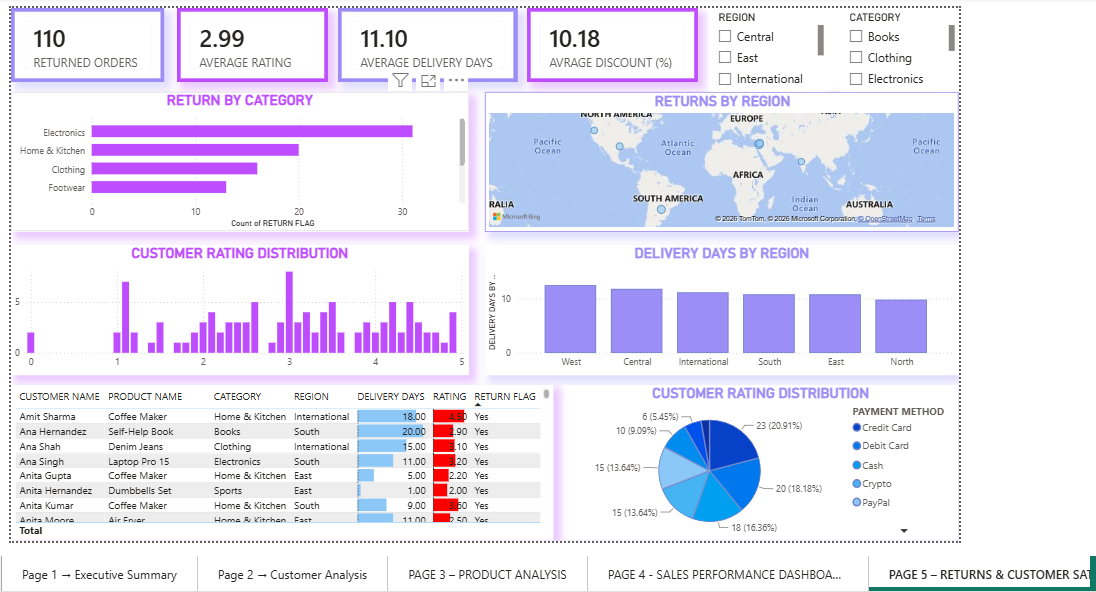

The page's visual inventory and layout, read from the dashboard file:
{"tool":"powerbi","page":{"name":"PAGE 5 – RETURNS & CUSTOMER SATISFACTION","canvas":[1280,720],"ordinal":4},"visuals":[{"type":"cardVisual","fields":{"Data":["Avg(Fresh Sales Data.DISCOUNT (%))"]},"box":[697.1,0,231.4,100],"z":0},{"type":"cardVisual","fields":{"Data":["Avg(Fresh Sales Data.DELIVERY DAYS)"]},"box":[441.4,0,242.9,100],"z":1000},{"type":"cardVisual","fields":{"Data":["Avg(Fresh Sales Data.RATING)"]},"box":[224.3,0,204.3,100],"z":2000},{"type":"cardVisual","fields":{"Data":["CountNonNull(Fresh Sales Data.RETURN FLAG)"]},"box":[0,0,207.1,100],"z":3000},{"type":"clusteredBarChart","title":" RETURN  BY CATEGORY","fields":{"Category":["Fresh Sales Data.CATEGORY"],"Y":["CountNonNull(Fresh Sales Data.RETURN FLAG)"]},"box":[0,112.9,618.6,188.6],"z":4000},{"type":"map","title":"RETURNS BY REGION","fields":{"Category":["Fresh Sales Data.REGION"],"Size":["CountNonNull(Fresh Sales Data.RETURN FLAG)"]},"box":[640,112.9,640,188.6],"z":5000},{"type":"clusteredColumnChart","title":"CUSTOMER RATING DISTRIBUTION","fields":{"Category":["Fresh Sales Data.RATING"],"Y":["CountNonNull(Fresh Sales Data.CUSTOMER ID)"]},"box":[0,320,618.6,175.7],"z":6000},{"type":"columnChart","title":" DELIVERY DAYS BY REGION ","fields":{"Category":["Fresh Sales Data.REGION"],"Y":["Avg(Fresh Sales Data.DELIVERY DAYS)"]},"box":[640,320,640,175.7],"z":7000},{"type":"pieChart","title":"CUSTOMER RATING DISTRIBUTION","fields":{"Category":["Fresh Sales Data.PAYMENT METHOD"],"Y":["CountNonNull(Fresh Sales Data.RETURN FLAG)"]},"box":[745.7,510,534.3,210],"z":8000},{"type":"tableEx","fields":{"Values":["Fresh Sales Data.CUSTOMER NAME","Fresh Sales Data.PRODUCT NAME","Fresh Sales Data.CATEGORY","Fresh Sales Data.REGION","Fresh Sales Data.DELIVERY DAYS","Fresh Sales Data.RATING","Fresh Sales Data.RETURN FLAG"]},"box":[0,510,732.9,210],"z":9000},{"type":"slicer","fields":{"Values":["Fresh Sales Data.REGION"]},"box":[942.9,0,160,112.9],"z":9001},{"type":"slicer","fields":{"Values":["Fresh Sales Data.CATEGORY"]},"box":[1120,0,160,112.9],"z":9002}]}

Visuals, with their boxes on the page's 1280x720 design canvas (x1, y1, x2, y2). These are canvas units, not pixel positions in the 1096x592 screenshot, which may show the page scaled, cropped or inside an application window:
cardVisual - Avg(Fresh Sales Data.DISCOUNT (%)): (697,0,928,100)
cardVisual - Avg(Fresh Sales Data.DELIVERY DAYS): (441,0,684,100)
cardVisual - Avg(Fresh Sales Data.RATING): (224,0,429,100)
cardVisual - CountNonNull(Fresh Sales Data.RETURN FLAG): (0,0,207,100)
" RETURN  BY CATEGORY" clusteredBarChart: (0,113,619,302)
"RETURNS BY REGION" map: (640,113,1280,302)
"CUSTOMER RATING DISTRIBUTION" clusteredColumnChart: (0,320,619,496)
" DELIVERY DAYS BY REGION " columnChart: (640,320,1280,496)
"CUSTOMER RATING DISTRIBUTION" pieChart: (746,510,1280,720)
tableEx - Fresh Sales Data.CUSTOMER NAME x Fresh Sales Data.PRODUCT NAME: (0,510,733,720)
slicer - Fresh Sales Data.REGION: (943,0,1103,113)
slicer - Fresh Sales Data.CATEGORY: (1120,0,1280,113)
